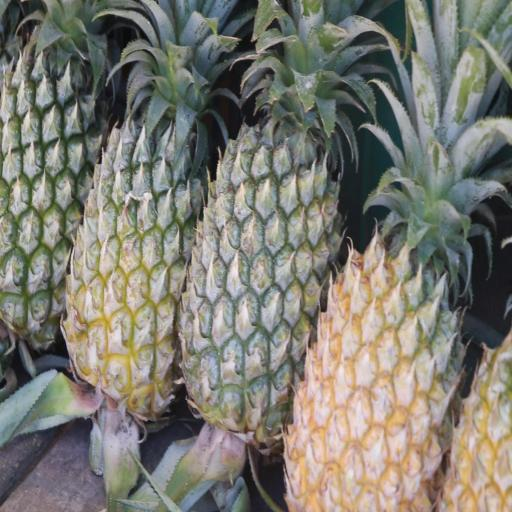------------------------------: (58, 0, 212, 428)
Pineapple - v8 v1: (278, 27, 474, 512)
